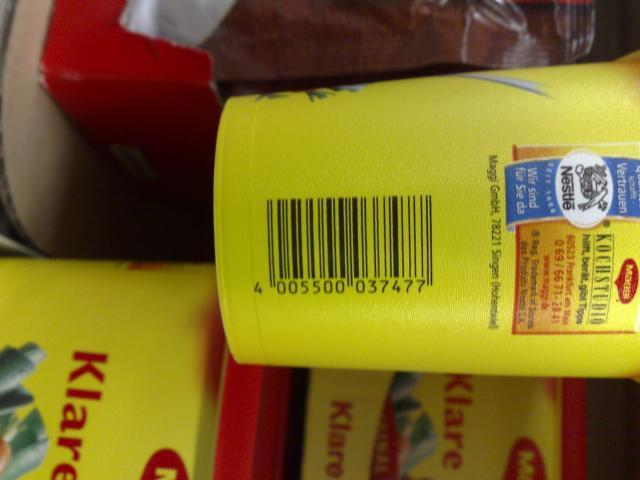Barcode: (239, 183, 449, 304)
